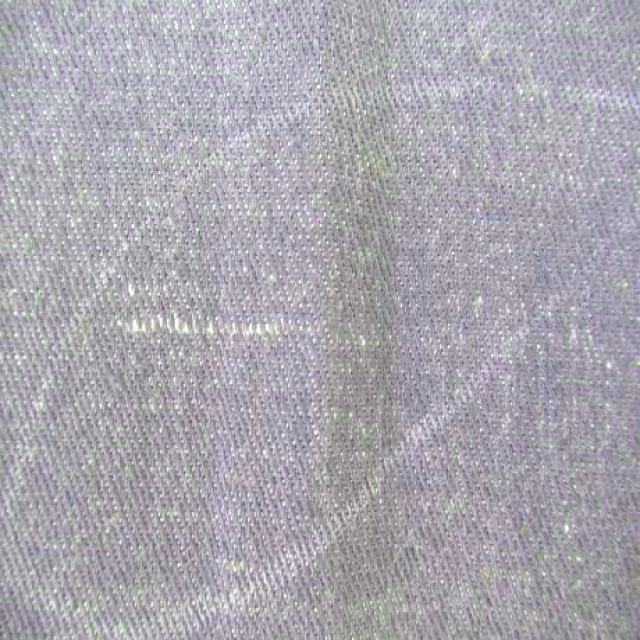Thread_other: (103, 268, 382, 414)
